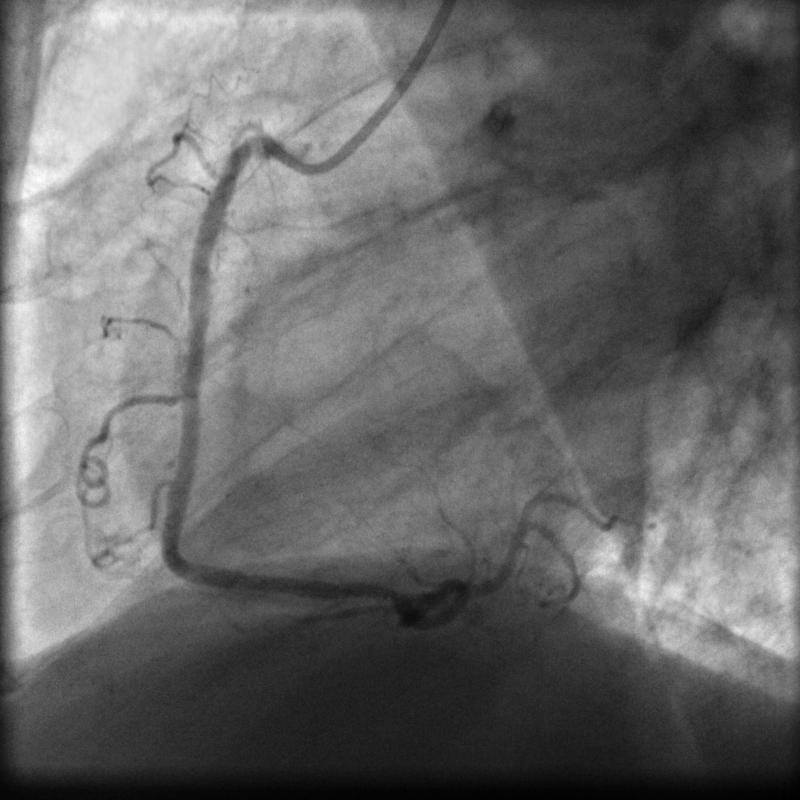Stenosis: (345, 570, 403, 611)
